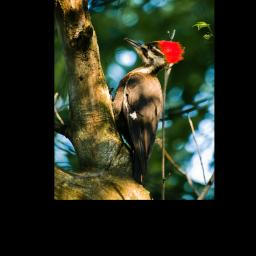Woodpecker: (104, 36, 185, 186)
